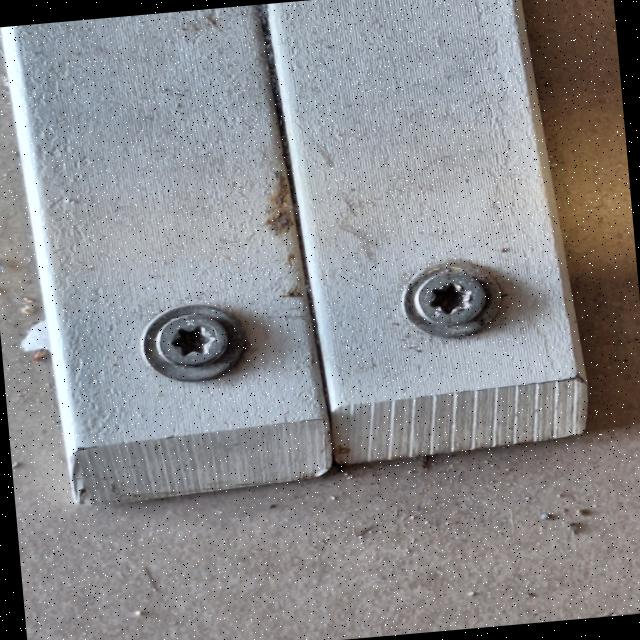Torx: (412, 264, 491, 328), (151, 312, 234, 368)
